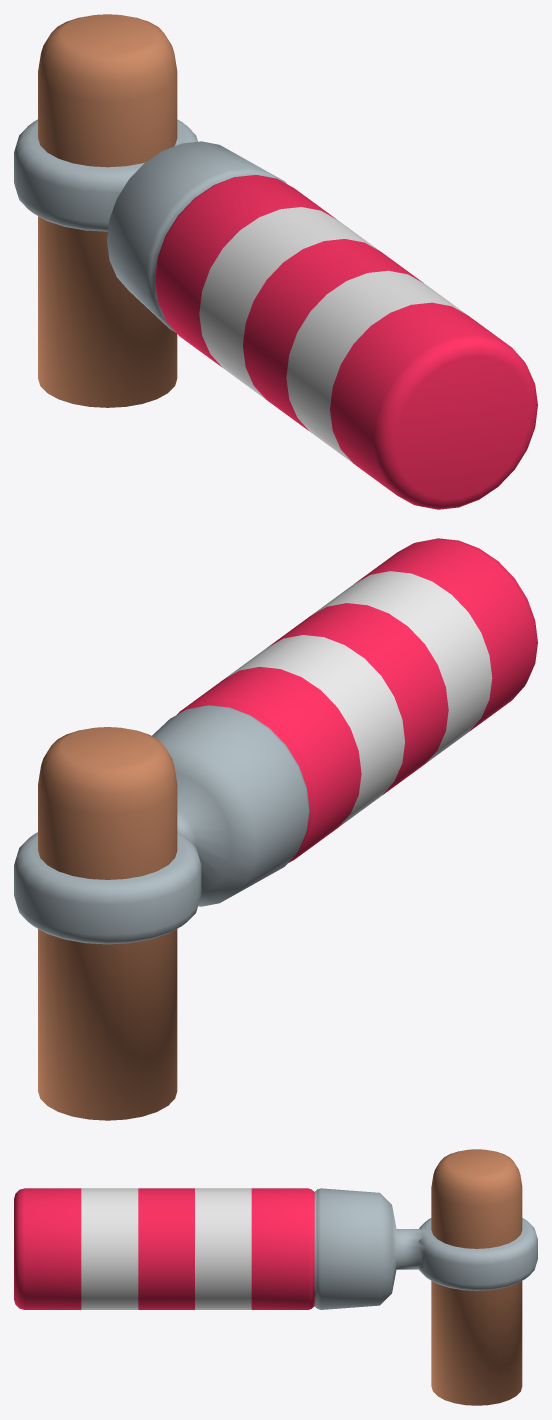
The model's file is Swiper.fbx.
3 views of the same model, one above another, from view 1: azimuth 30°, elevation 25°; view 2: azimuth 150°, elevation 25°; view 3: azimuth 270°, elevation 25° (orthographic). The views are drawn at different scales.
Parts seen in each view (by area): view 1: swiper_teamRed.001, swiper_teamRed; view 2: swiper_teamRed.001, swiper_teamRed; view 3: swiper_teamRed.001, swiper_teamRed.
Part boxes in pixels (bbox=[...]): swiper_teamRed.001: bbox=[14, 119, 537, 509]; swiper_teamRed: bbox=[38, 14, 177, 407]; swiper_teamRed.001: bbox=[14, 538, 537, 944]; swiper_teamRed: bbox=[38, 727, 177, 1120]; swiper_teamRed.001: bbox=[14, 1188, 537, 1309]; swiper_teamRed: bbox=[431, 1149, 522, 1405].
Bounding box in the file's own units: 0.5641 × 1.14 × 2.42.
